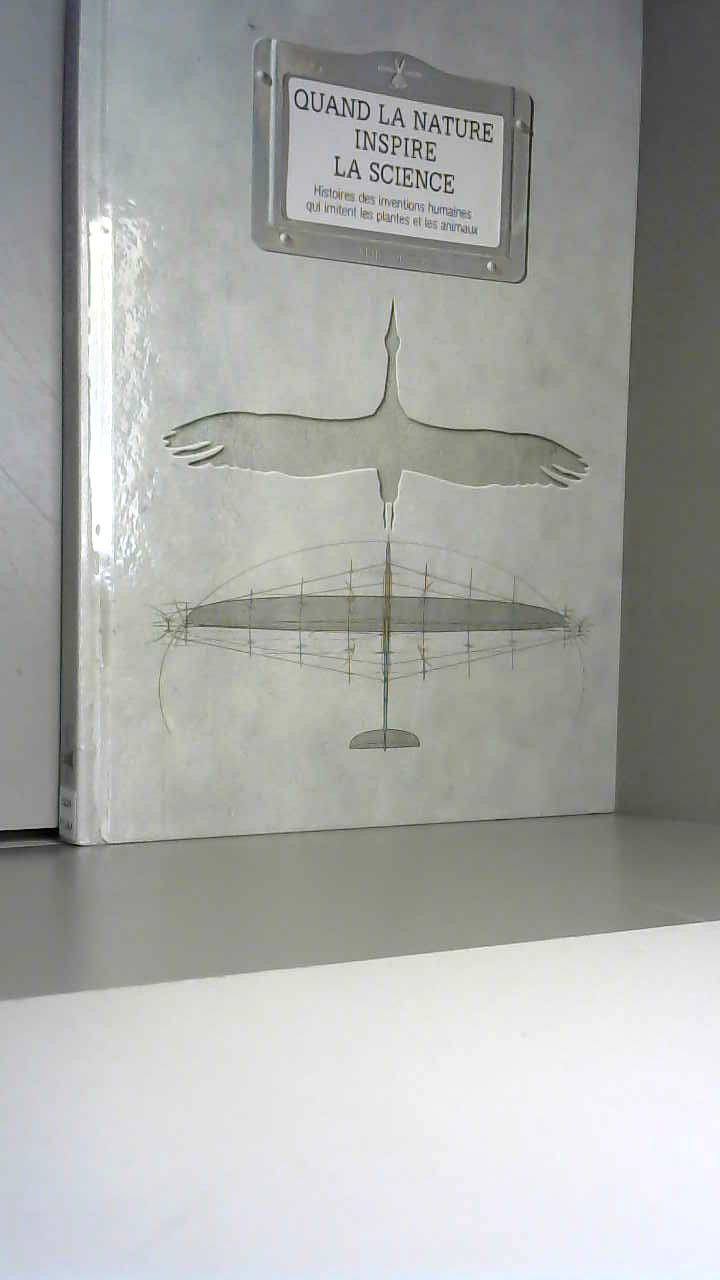book: (35, 0, 673, 893)
